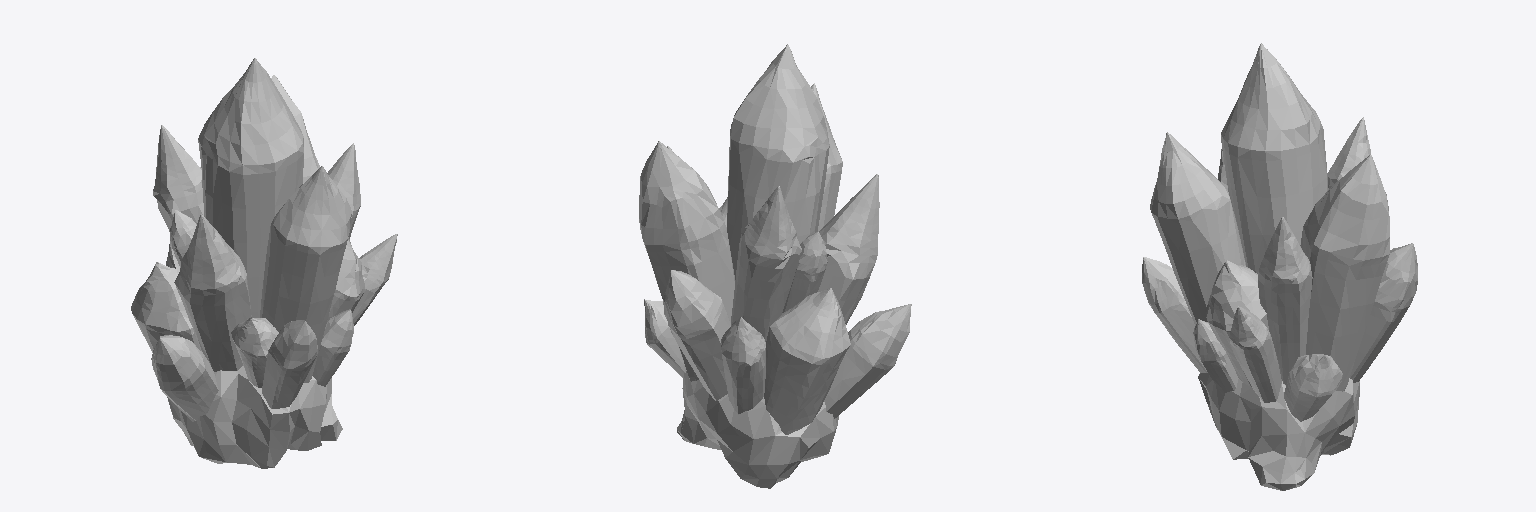
The model's file is artefact.obj.
3 views of the same model, side by side, from view 1: azimuth 30°, elevation 25°; view 2: azimuth 150°, elevation 25°; view 3: azimuth 270°, elevation 25° (orthographic).
Parts seen in each view (by area): view 1: crystal_low_crystal_low, foundation_low_foundation_low; view 2: crystal_low_crystal_low, foundation_low_foundation_low; view 3: crystal_low_crystal_low, foundation_low_foundation_low.
Boxes of the visible parts, x1,y1,x2,y2 form: crystal_low_crystal_low: [131, 58, 397, 421]; foundation_low_foundation_low: [167, 366, 342, 468]; crystal_low_crystal_low: [639, 44, 911, 434]; foundation_low_foundation_low: [677, 371, 838, 488]; crystal_low_crystal_low: [1142, 43, 1417, 421]; foundation_low_foundation_low: [1198, 373, 1359, 490].
Bounding box in the file's own units: 9.42 × 15.48 × 9.34.